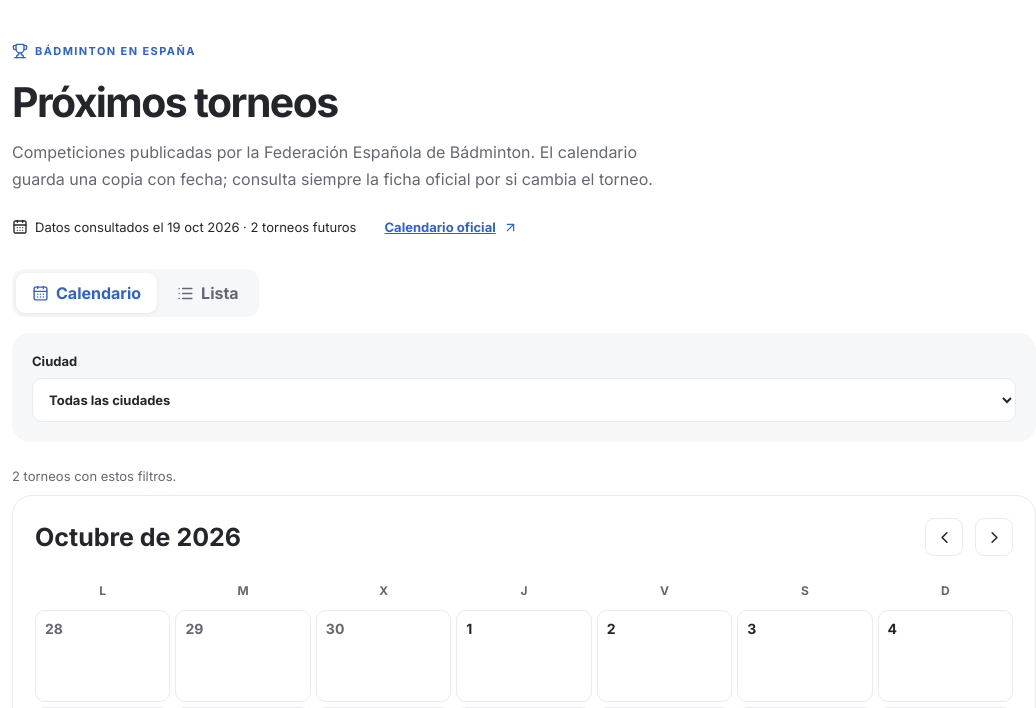
Calendario de torneos › no ofrece búsqueda cercana para un torneo cuya sede CERCA está pendiente
Select "Ibiza" in the dropdown labelled "Ciudad" at [524, 400], box 32,378 -> 1016,422
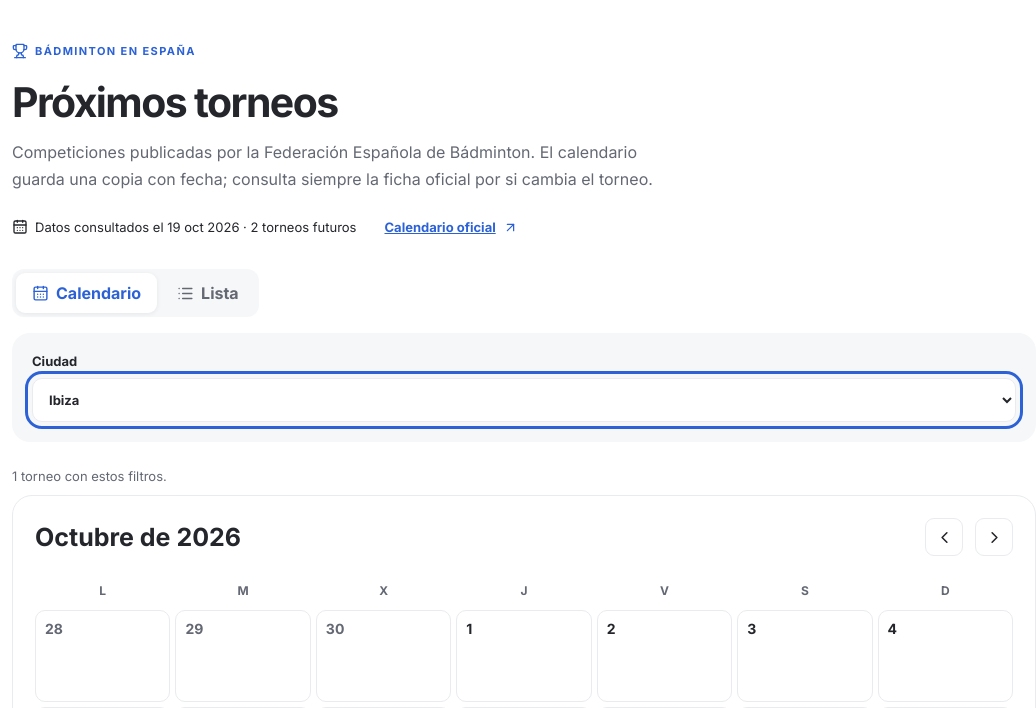
Click the button named "Mes siguiente" at [994, 537], box 975,518 -> 1013,556
(page scrolled)
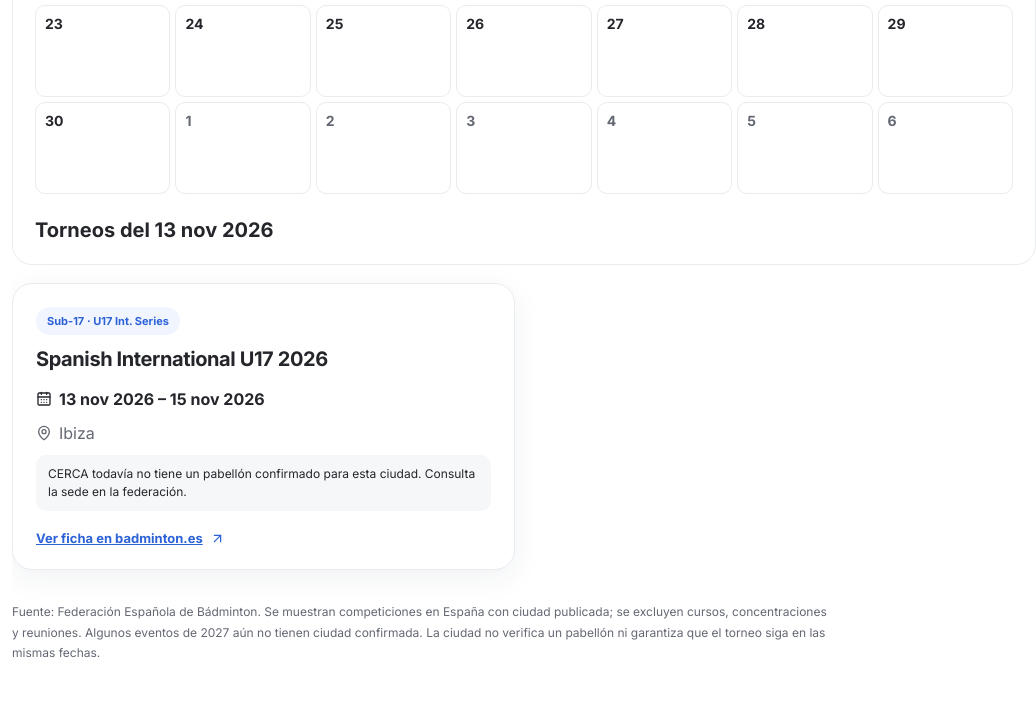
expect the text "todavía no tiene un pabellón confirmado" is shown: met, box 48,466 -> 475,499
